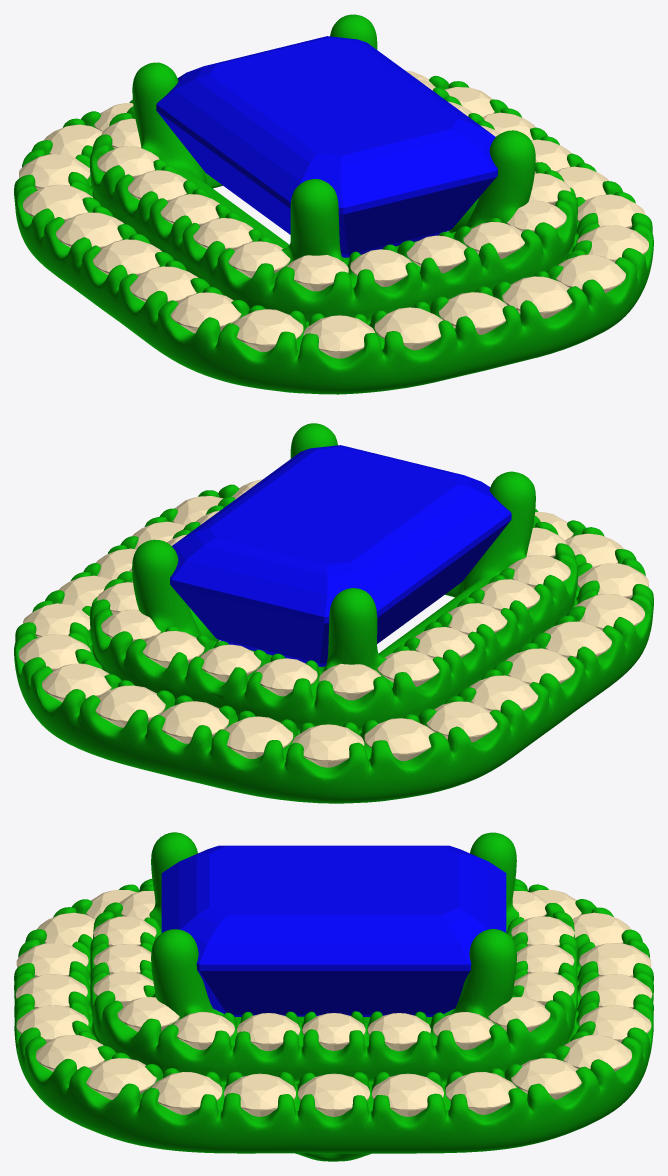
The picture shows the model from 3 angles, top to bottom: view 1: azimuth 30°, elevation 25°; view 2: azimuth 150°, elevation 25°; view 3: azimuth 270°, elevation 25°; orthographic projection.
Parts seen in each view (by area): view 1: Metal01, Diamond_Emerald, Diamond_Round.027, Diamond_Round.028, Diamond_Round.026, Diamond_Round.024, Diamond_Round.025, Diamond_Round.029, Diamond_Round.023, Diamond_Round.031, Diamond_Round.032, Diamond_Round.030 (+21 smaller); view 2: Metal01, Diamond_Emerald, Diamond_Round.035, Diamond_Round.036, Diamond_Round.034, Diamond_Round.038, Diamond_Round.037, Diamond_Round.033, Diamond_Round.039, Diamond_Round.030, Diamond_Round.031, Diamond_Round.032 (+21 smaller); view 3: Metal01, Diamond_Emerald, Diamond_Round.021, Diamond_Round.043, Diamond_Round.041, Diamond_Round.042, Diamond_Round.020, Diamond_Round.040, Diamond_Round.022, Diamond_Round.039, Diamond_Round.023, Diamond_Round.024 (+24 smaller).
Part boxes in pixels (left/top/right/bottom): Metal01: left=14, top=14, right=653, bottom=394; Diamond_Emerald: left=156, top=36, right=497, bottom=257; Diamond_Round.027: left=303, top=315, right=375, bottom=358; Diamond_Round.028: left=233, top=309, right=303, bottom=351; Diamond_Round.026: left=374, top=307, right=443, bottom=350; Diamond_Round.024: left=502, top=276, right=572, bottom=318; Diamond_Round.025: left=439, top=292, right=507, bottom=334; Diamond_Round.029: left=170, top=292, right=241, bottom=333; Diamond_Round.023: left=556, top=254, right=625, bottom=293; Diamond_Round.031: left=93, top=239, right=161, bottom=275; Diamond_Round.032: left=56, top=212, right=123, bottom=248; Diamond_Round.030: left=129, top=266, right=197, bottom=302; Metal01: left=14, top=423, right=653, bottom=803; Diamond_Emerald: left=170, top=445, right=511, bottom=666; Diamond_Round.035: left=292, top=724, right=364, bottom=767; Diamond_Round.036: left=224, top=716, right=293, bottom=758; Diamond_Round.034: left=364, top=718, right=434, bottom=761; Diamond_Round.038: left=95, top=685, right=165, bottom=727; Diamond_Round.037: left=160, top=701, right=228, bottom=743; Diamond_Round.033: left=426, top=701, right=497, bottom=742; Diamond_Round.039: left=42, top=663, right=111, bottom=702; Diamond_Round.030: left=544, top=621, right=611, bottom=658; Diamond_Round.031: left=506, top=648, right=574, bottom=684; Diamond_Round.032: left=469, top=675, right=538, bottom=711; Metal01: left=14, top=832, right=653, bottom=1161; Diamond_Emerald: left=161, top=845, right=506, bottom=1016; Diamond_Round.021: left=151, top=1072, right=222, bottom=1114; Diamond_Round.043: left=298, top=1073, right=369, bottom=1116; Diamond_Round.041: left=445, top=1072, right=516, bottom=1114; Diamond_Round.042: left=372, top=1073, right=443, bottom=1116; Diamond_Round.020: left=224, top=1073, right=295, bottom=1116; Diamond_Round.040: left=511, top=1058, right=581, bottom=1099; Diamond_Round.022: left=86, top=1058, right=156, bottom=1099; Diamond_Round.039: left=563, top=1035, right=631, bottom=1071; Diamond_Round.023: left=36, top=1035, right=104, bottom=1071; Diamond_Round.024: left=16, top=1005, right=88, bottom=1042.
Bounding box in the file's own units: 12.21 × 6.66 × 14.2.
